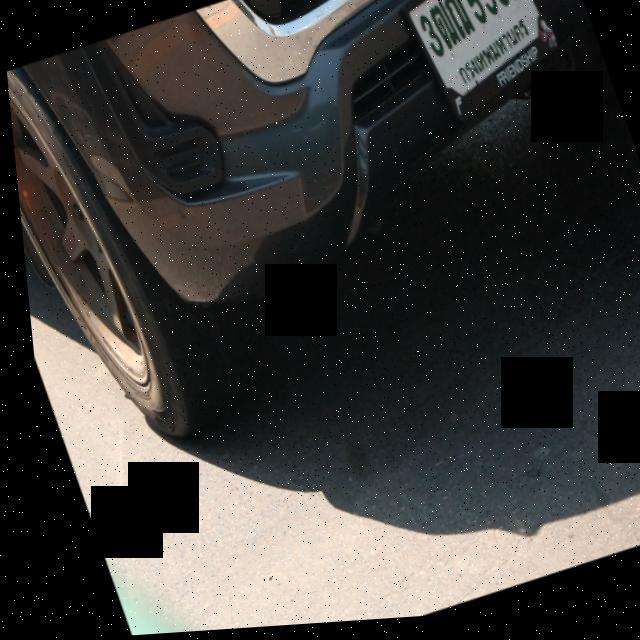text: (409, 0, 544, 109)
